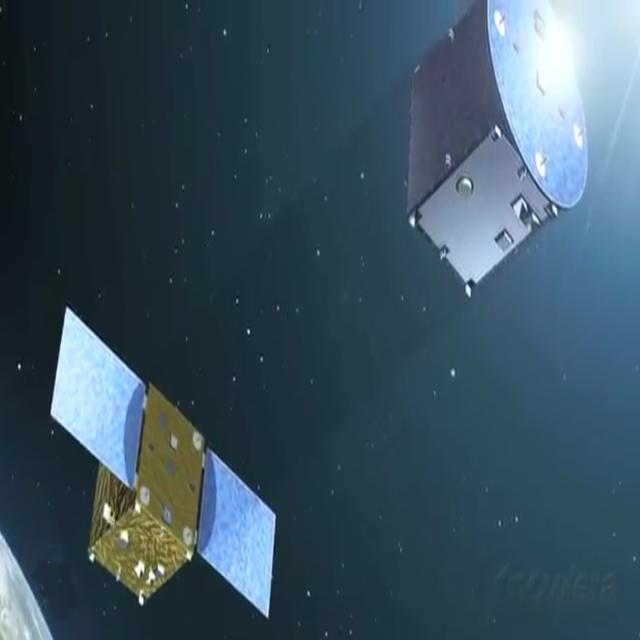sat: (38, 250, 308, 640), (377, 0, 605, 318)
